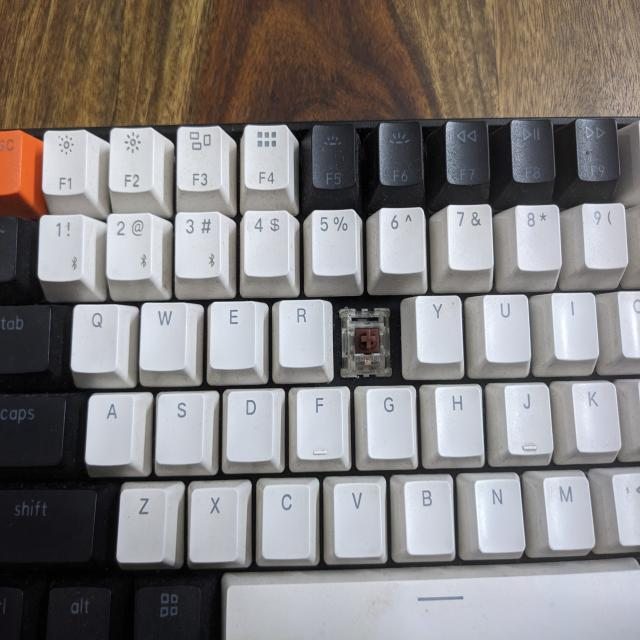key-switch: (341, 305, 391, 376)
